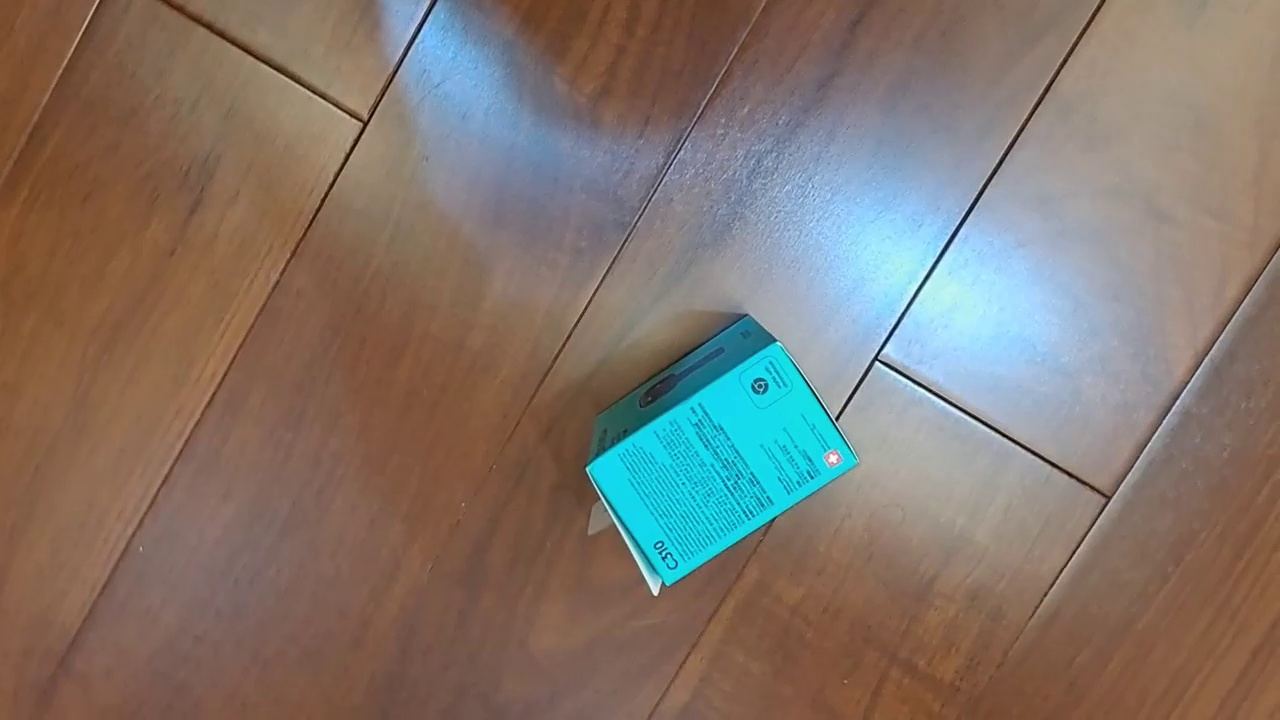webcam: (584, 313, 861, 597)
